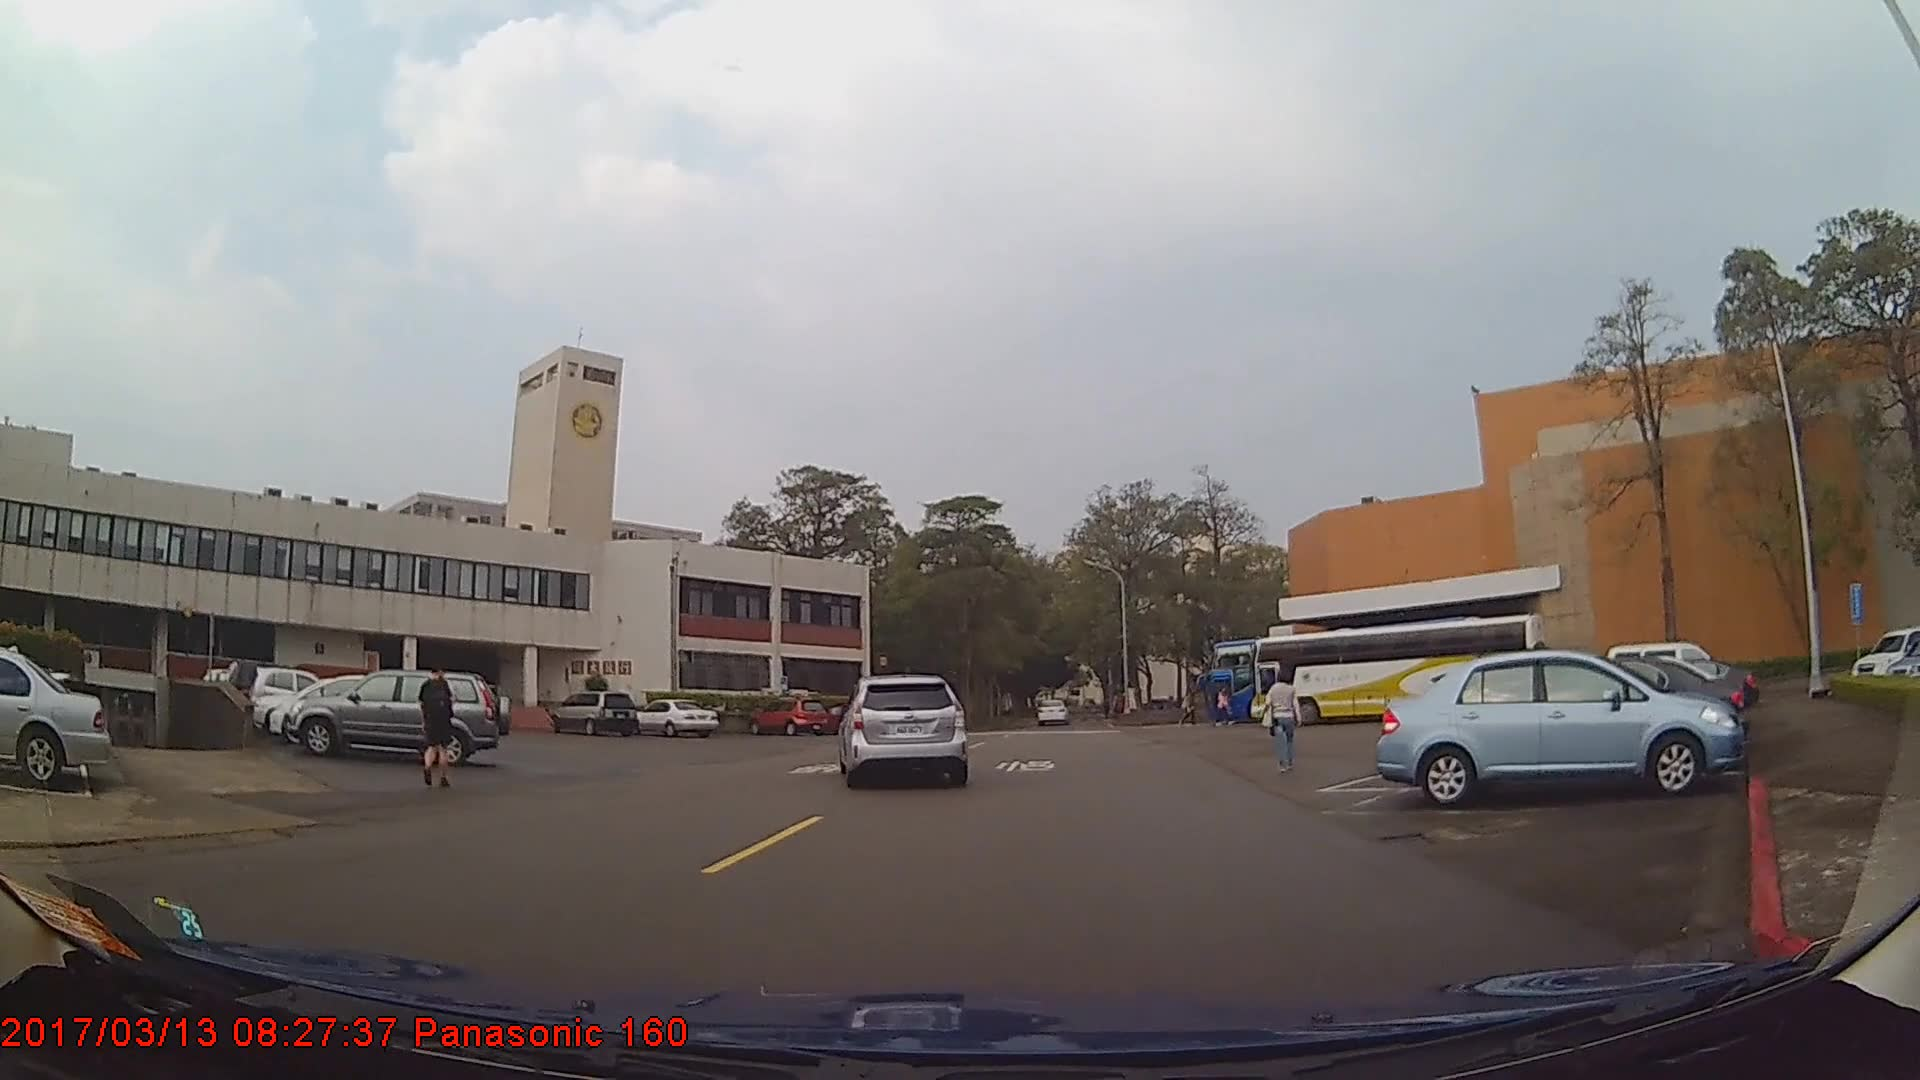pedestrian: (418, 664, 463, 790), (1263, 669, 1303, 772)
vehicle: (1378, 651, 1747, 809), (1427, 654, 1745, 768), (1250, 611, 1546, 726), (1208, 637, 1447, 725), (293, 669, 512, 763), (0, 644, 112, 791), (838, 672, 968, 789), (248, 664, 346, 721), (544, 690, 637, 737), (633, 696, 719, 736), (750, 697, 832, 737), (1035, 696, 1065, 726)
